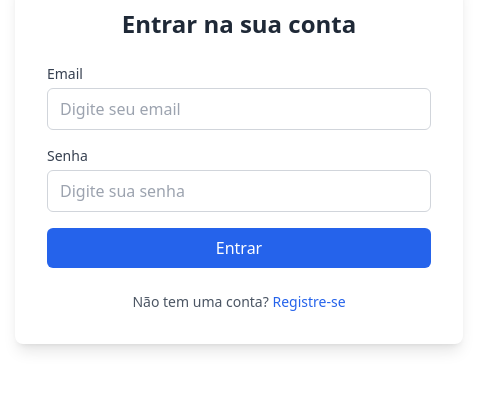
Test case: LoginForm › should validate password length
In the field labelled "Email": (239, 109) [47, 88, 431, 130], type "test@example.com"
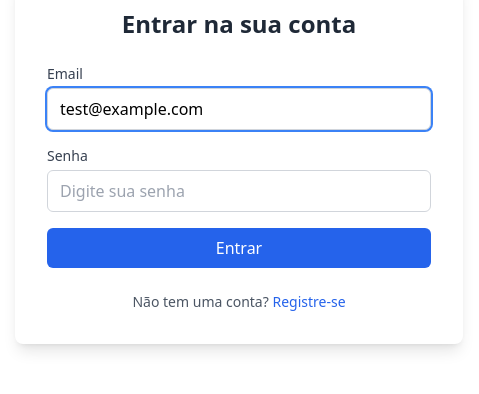
In the password field labelled "Senha": (239, 191) [47, 170, 431, 212], type "123"
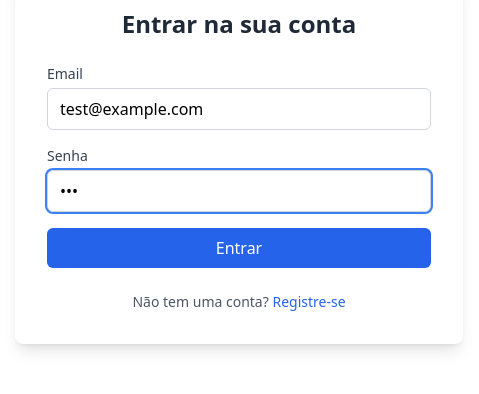
Click the button "Entrar": (239, 248) [47, 228, 431, 268]
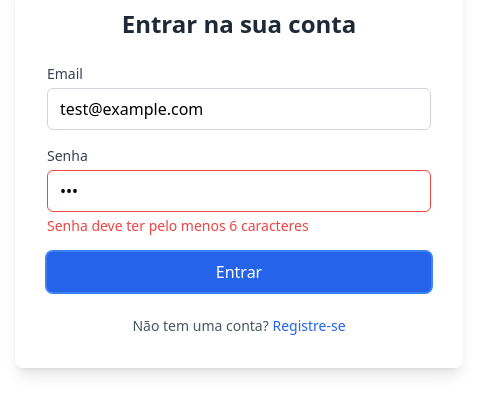
Expected: the text "Senha deve ter pelo menos 6 caracteres" is shown, [47, 216, 309, 235]
